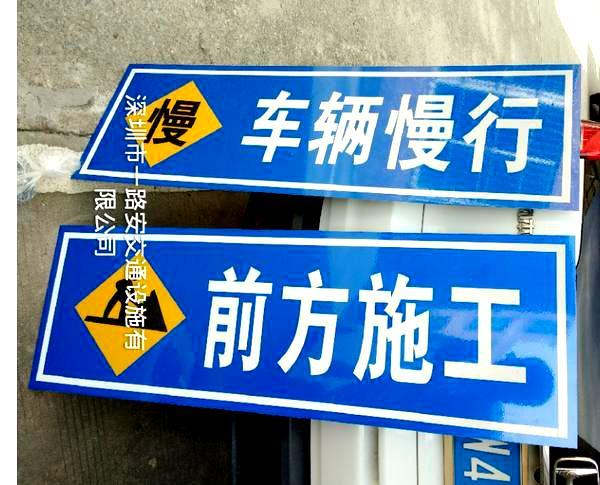sign: (45, 232, 570, 425), (107, 68, 576, 198)
